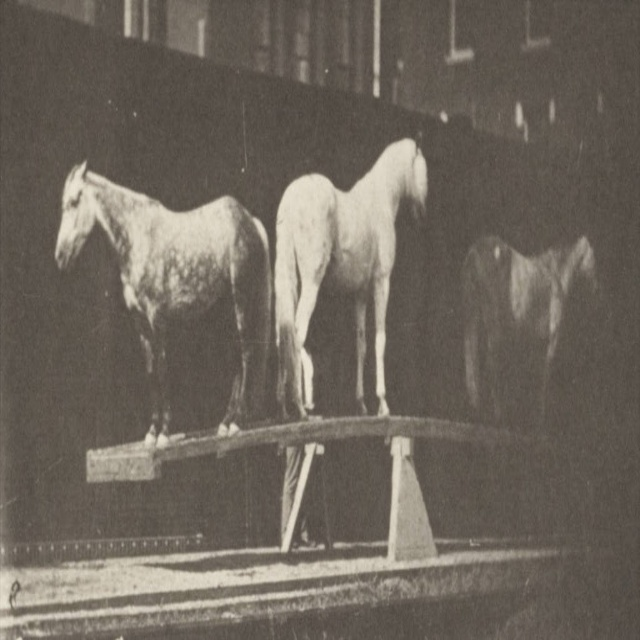Horse: (55, 155, 274, 454), (275, 129, 430, 419), (456, 229, 605, 423)
